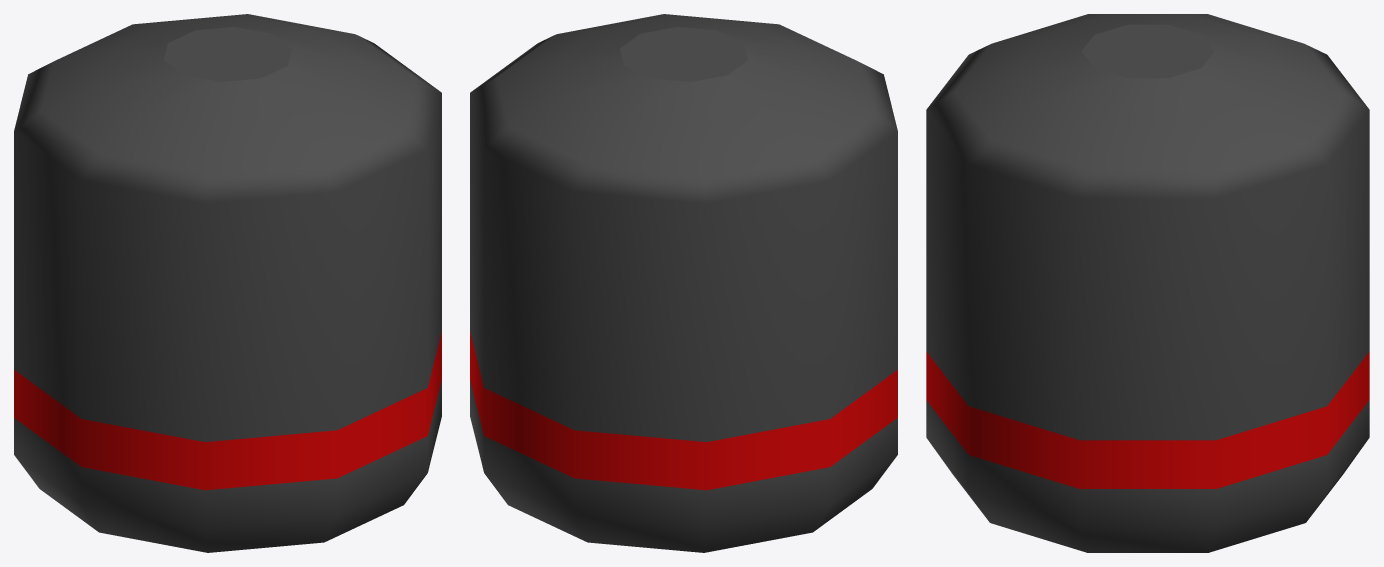
Rendered from Grenada.fbx.
3 renders of one model, left to right at view 1: azimuth 30°, elevation 25°; view 2: azimuth 150°, elevation 25°; view 3: azimuth 270°, elevation 25°, orthographic.
Parts seen in each view (by area): view 1: pCylinder26; view 2: pCylinder26; view 3: pCylinder26.
Part boxes in pixels (x1,y1,x2,y2): pCylinder26: (14,14,441,552); pCylinder26: (470,14,897,552); pCylinder26: (926,14,1369,552).
Size of the model in its own units: 0.3543 by 0.3923 by 0.3726.
